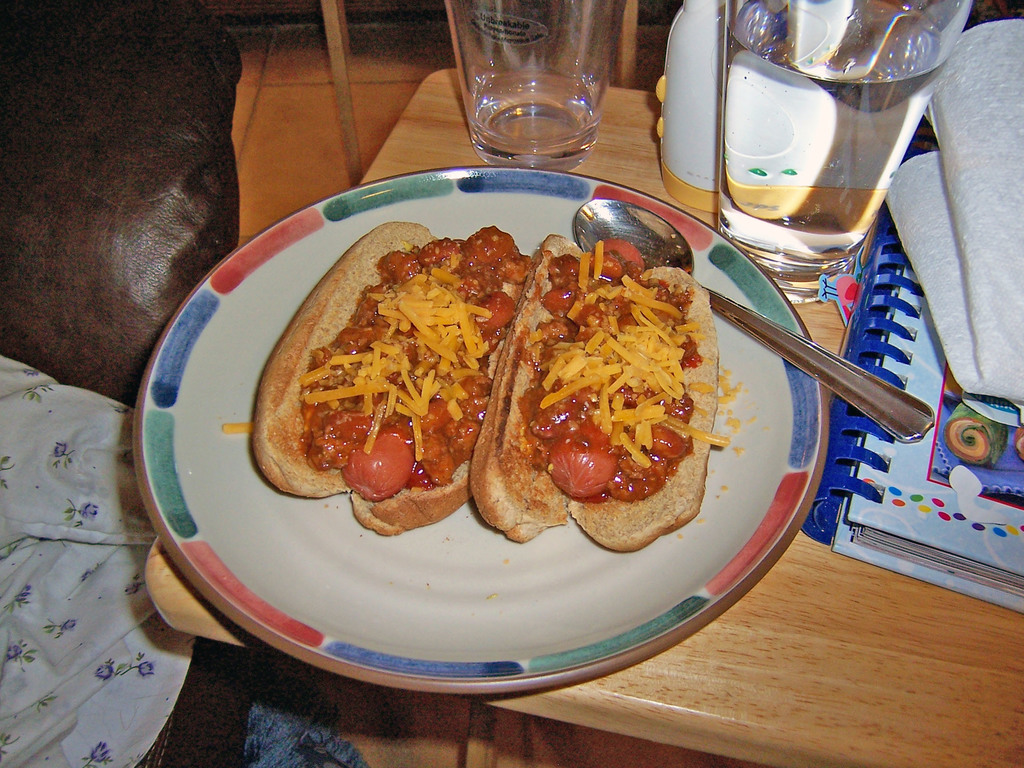hot_dog: (255, 216, 534, 536), (458, 232, 713, 557)
